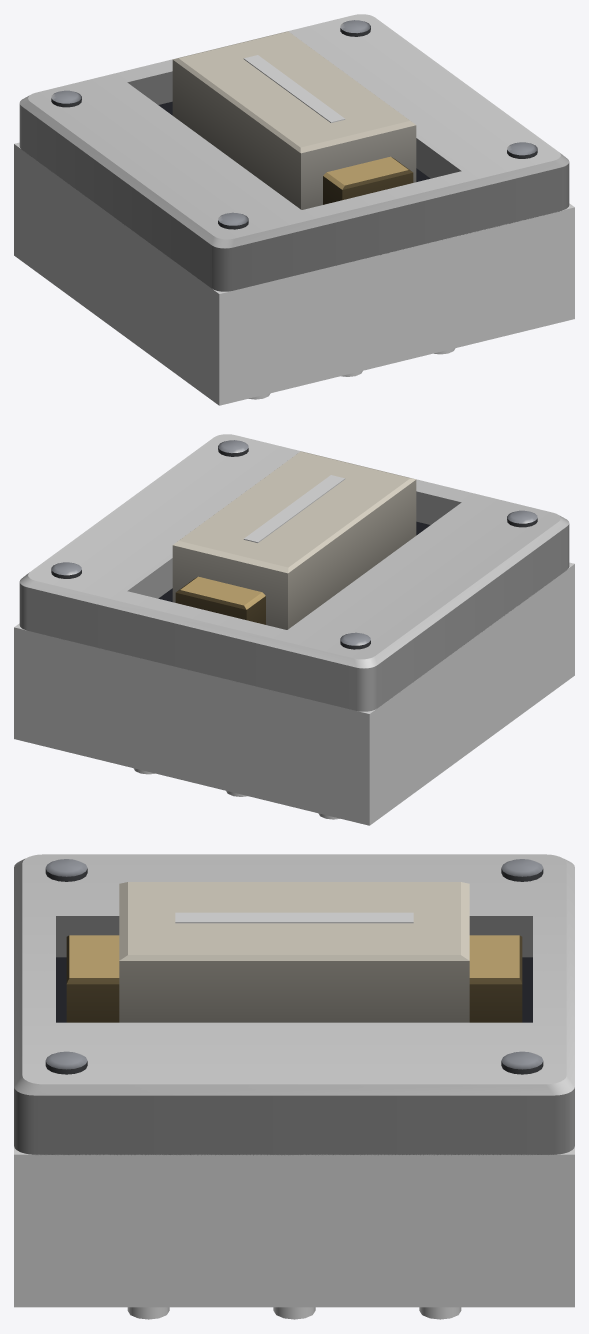
The model's file is part_series_resistor.glb.
3 renders of one model, top to bottom at view 1: azimuth 30°, elevation 25°; view 2: azimuth 150°, elevation 25°; view 3: azimuth 270°, elevation 25°, orthographic. The views are drawn at different scales.
Visible parts, largest first — view 1: Plattform, Gehaeuse, Korpus, Licht; view 2: Plattform, Gehaeuse, Korpus, Licht; view 3: Plattform, Gehaeuse, Korpus, Licht, Stecker.
Part boxes in pixels (bbox=[...]): Plattform: bbox=[19, 14, 569, 291]; Gehaeuse: bbox=[14, 142, 574, 405]; Korpus: bbox=[51, 20, 537, 229]; Licht: bbox=[243, 55, 345, 122]; Plattform: bbox=[19, 434, 569, 711]; Gehaeuse: bbox=[14, 562, 574, 825]; Korpus: bbox=[51, 440, 537, 649]; Licht: bbox=[243, 475, 345, 542]; Plattform: bbox=[14, 854, 574, 1155]; Gehaeuse: bbox=[14, 1146, 574, 1307]; Korpus: bbox=[45, 859, 543, 1074]; Licht: bbox=[175, 912, 413, 923]; Stecker: bbox=[127, 1307, 461, 1319].
Size of the model in its own units: 0.8 by 0.522 by 0.8.
